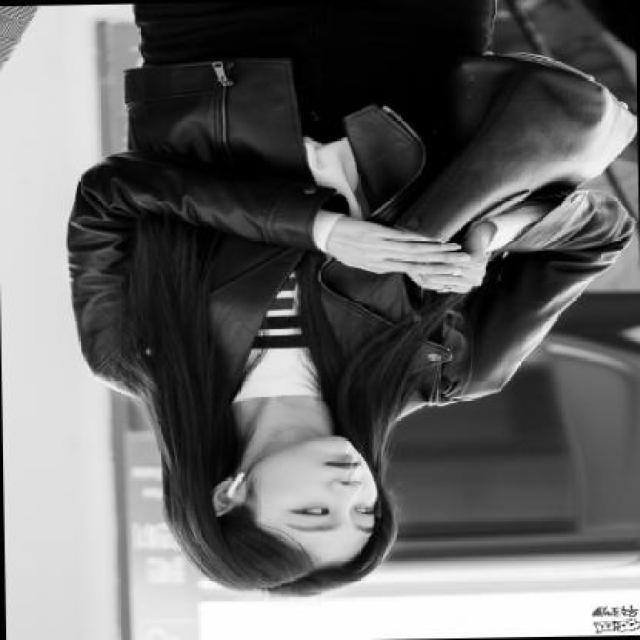earphone: (224, 465, 279, 526)
